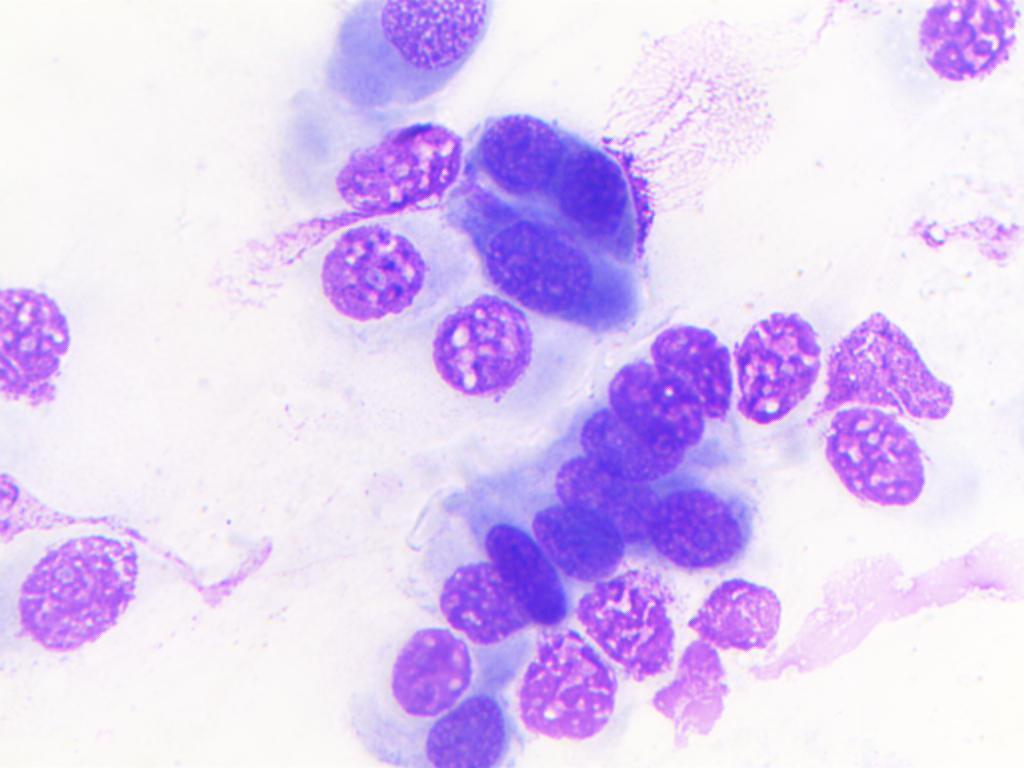epithelial: (294, 110, 464, 217), (18, 520, 145, 658), (301, 226, 453, 324), (732, 296, 825, 441), (579, 564, 688, 684), (511, 626, 622, 742), (417, 297, 533, 403), (810, 404, 926, 510), (476, 218, 592, 308), (479, 519, 577, 622), (553, 450, 658, 546), (0, 270, 72, 407), (371, 0, 492, 80), (648, 316, 741, 420), (428, 550, 524, 647), (378, 625, 474, 722), (583, 407, 706, 479), (609, 359, 714, 441), (914, 3, 1024, 81), (651, 486, 750, 570), (528, 501, 633, 578), (475, 104, 564, 194), (437, 690, 510, 768)
